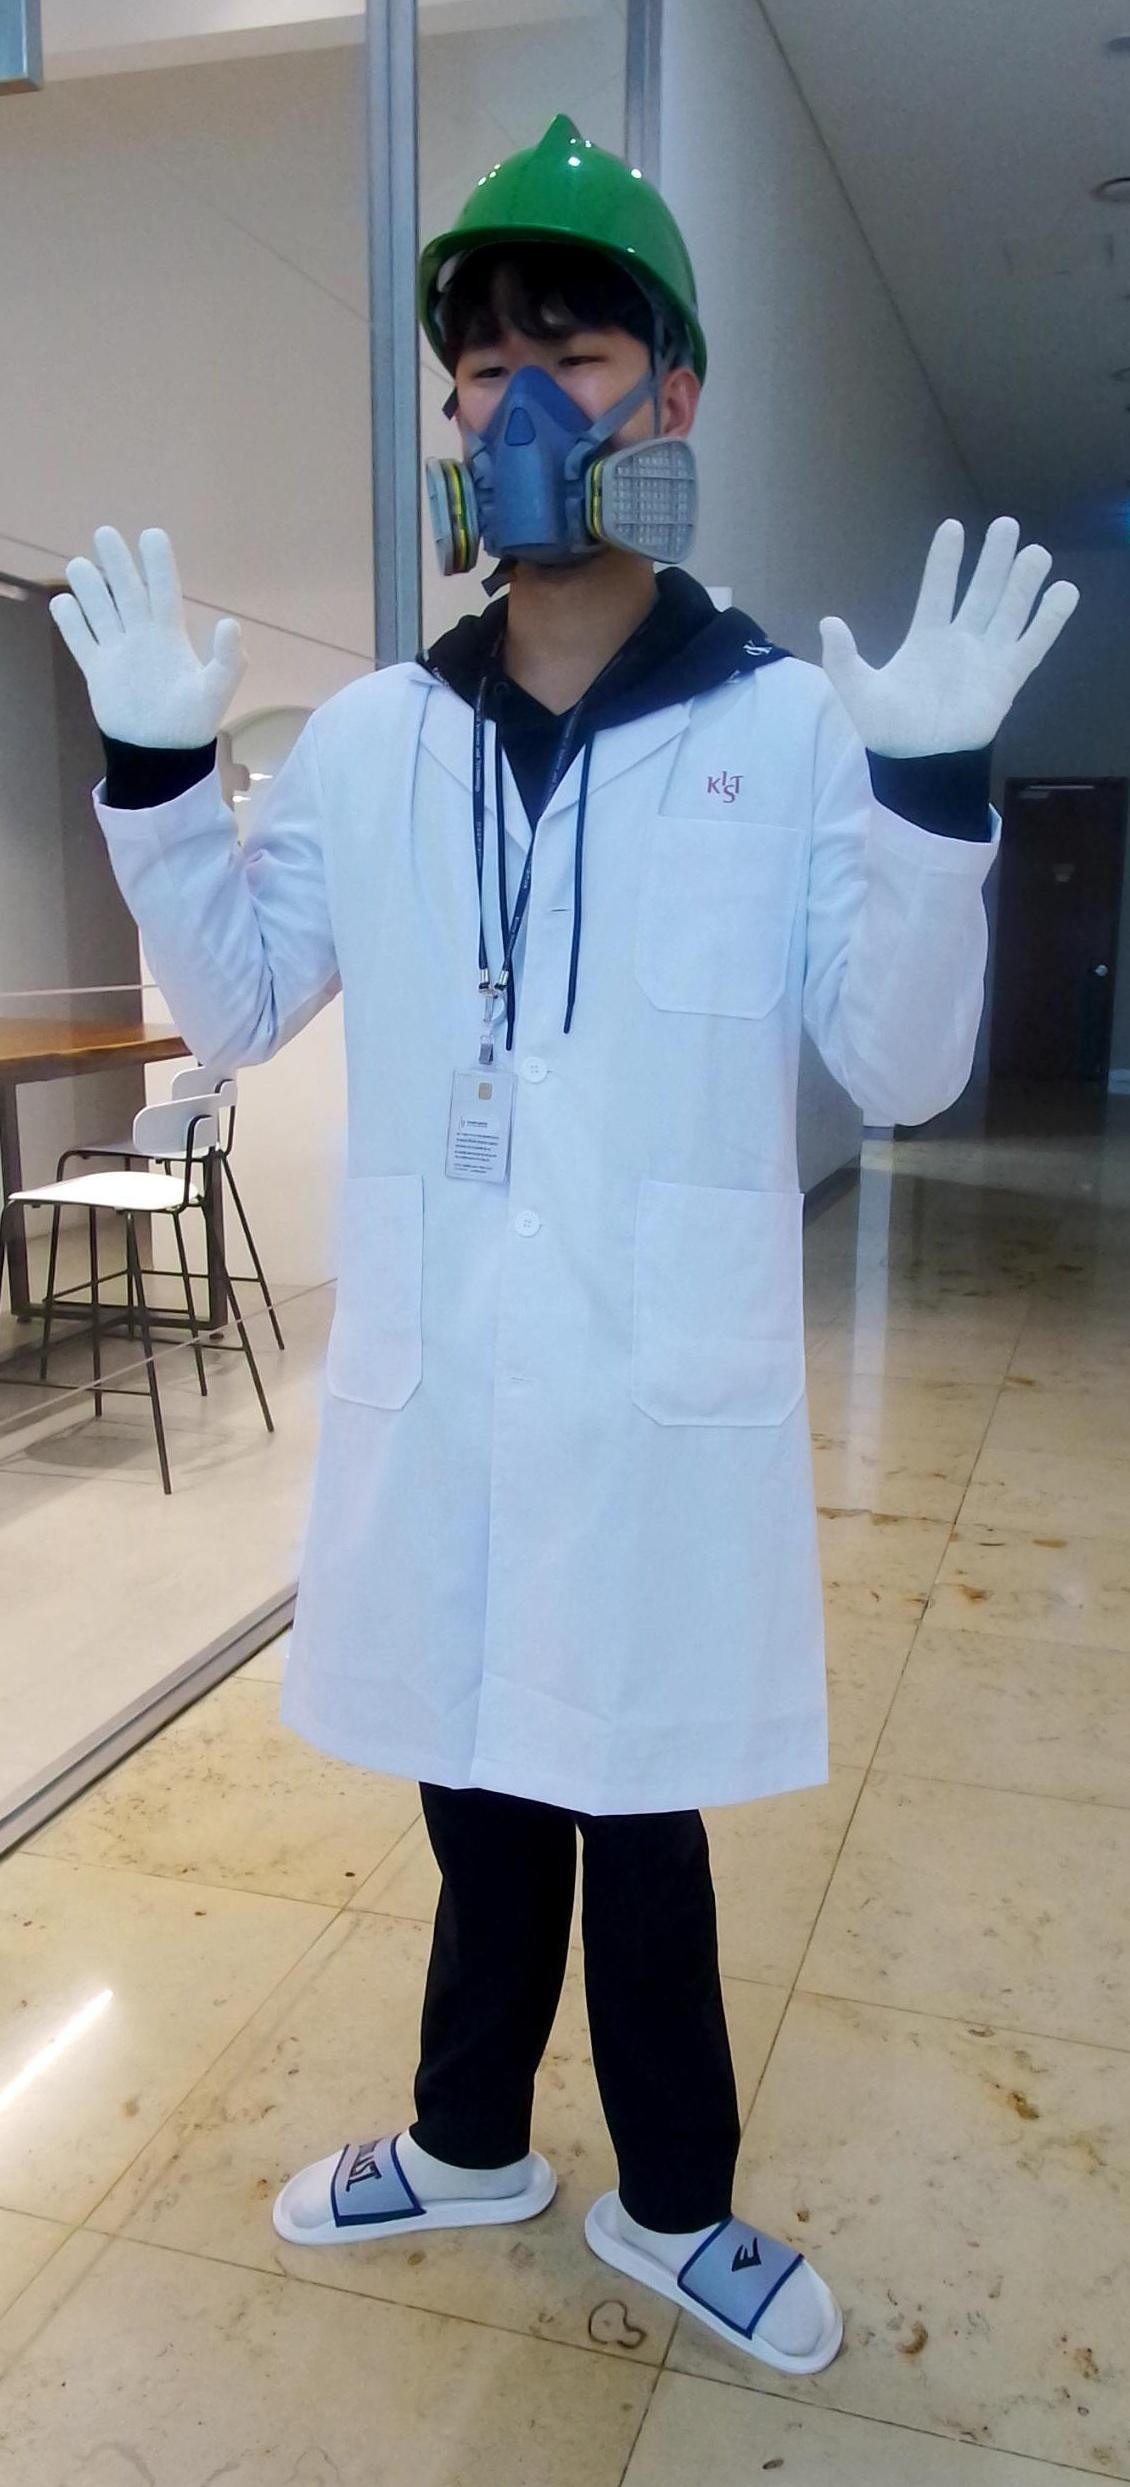lab_coat: (278, 657, 855, 1805)
